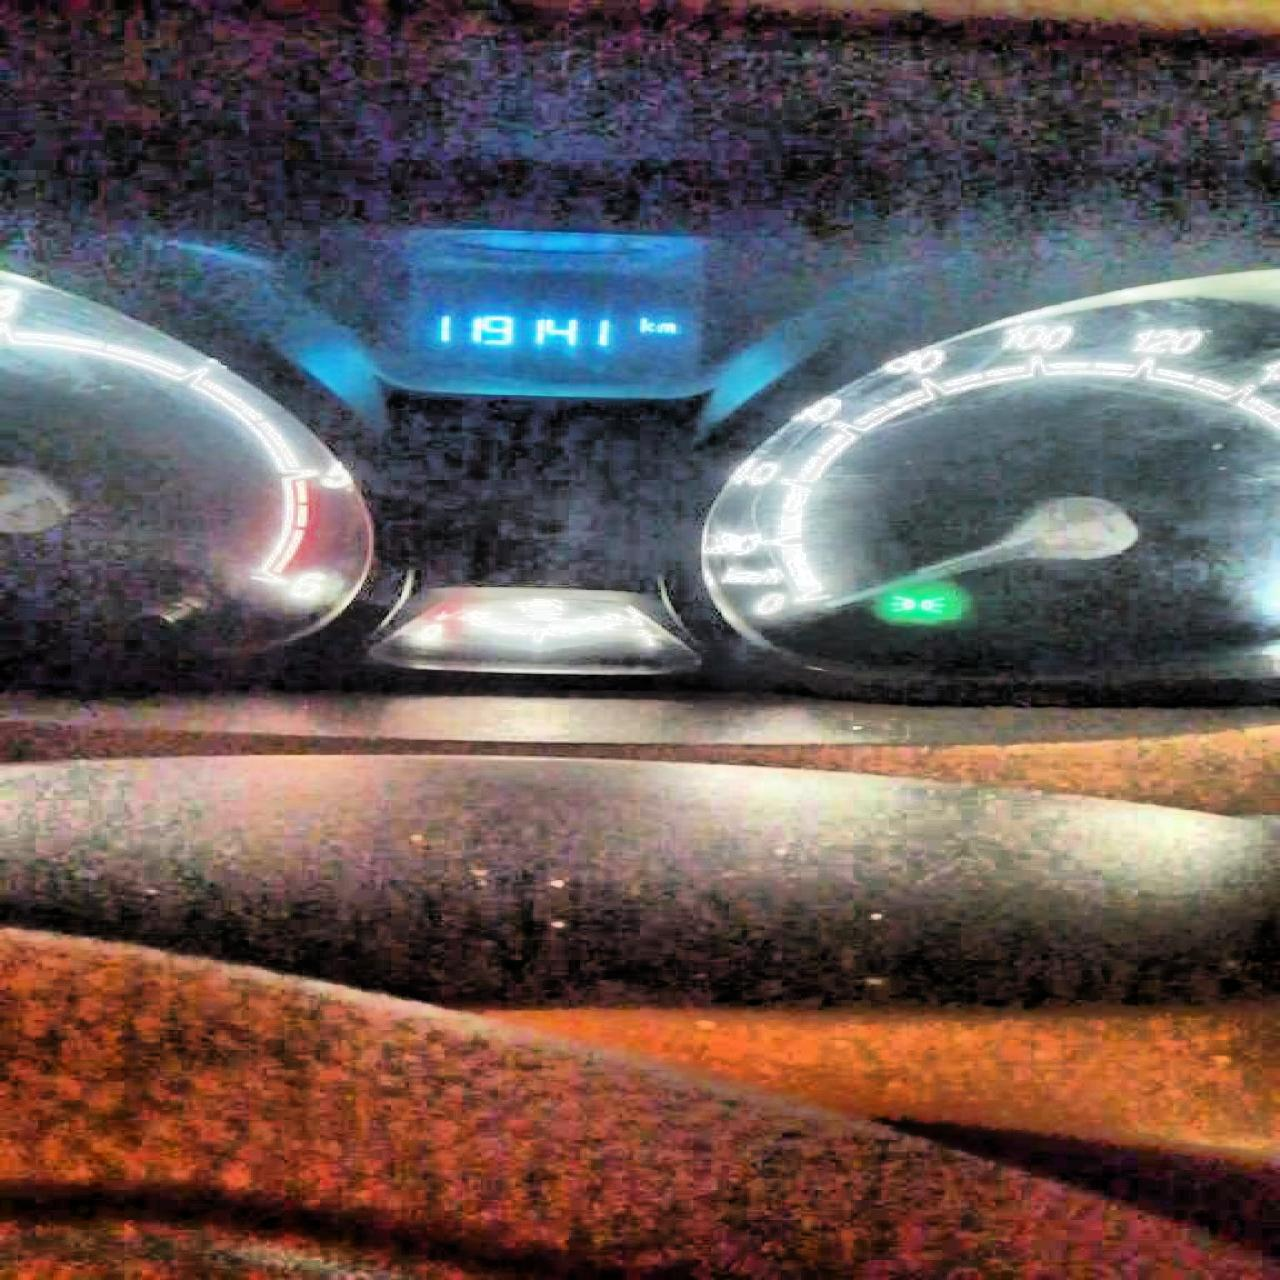1: (436, 312, 454, 347), (593, 316, 613, 347), (531, 315, 545, 346), (469, 314, 481, 343)
4: (544, 316, 578, 346)
9: (479, 313, 513, 346)
X: (635, 316, 655, 333), (655, 320, 675, 332)
odometer: (396, 279, 702, 372)
